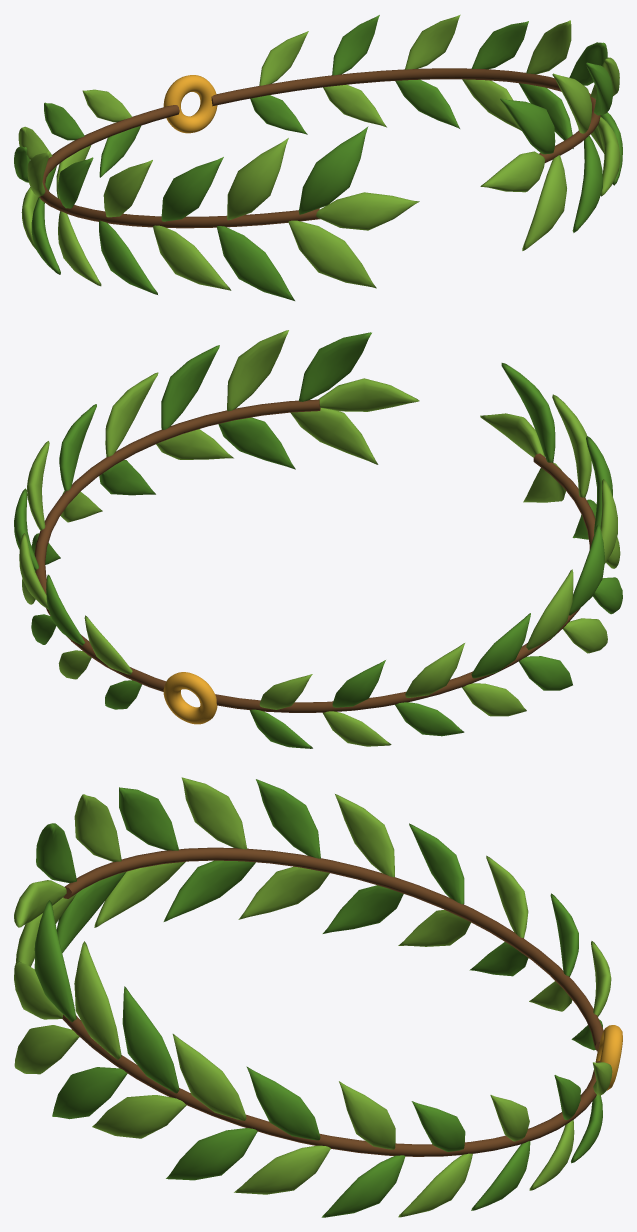
File: corona.glb
3 views of the same model, one above another, from view 1: azimuth 30°, elevation 25°; view 2: azimuth 150°, elevation 25°; view 3: azimuth 270°, elevation 25° (orthographic). The views are drawn at different scales.
Visible parts, largest first — view 1: accesorio_corona; view 2: accesorio_corona; view 3: accesorio_corona.
Part boxes in pixels (x1,y1,x2,y2): accesorio_corona: (14,14,622,300); accesorio_corona: (14,330,622,748); accesorio_corona: (14,777,622,1217).
Size of the model in its own units: 0.648 by 0.2496 by 0.5595.
